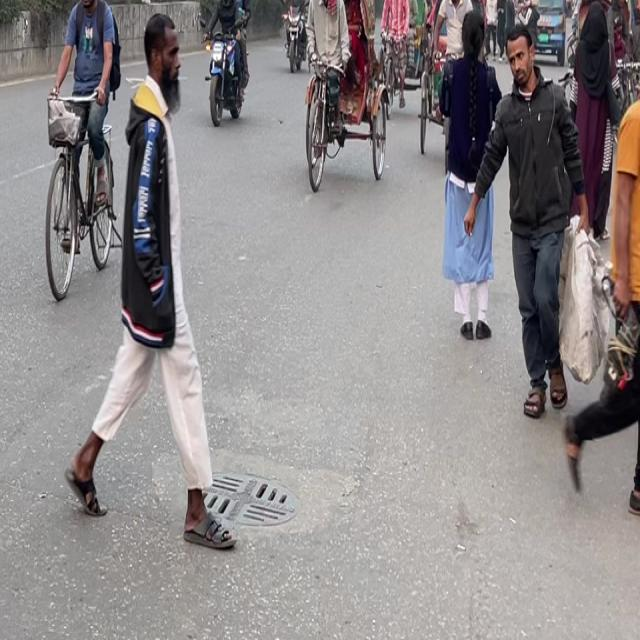bicycle: (0, 0, 132, 302)
motorbike: (200, 0, 253, 156)
